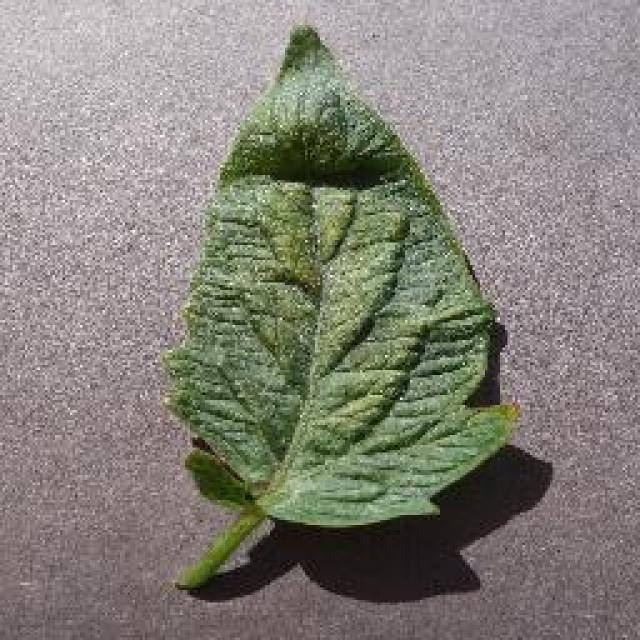Tom_Spider_mites Two-spotted_spider_mite: (226, 145, 424, 447)
